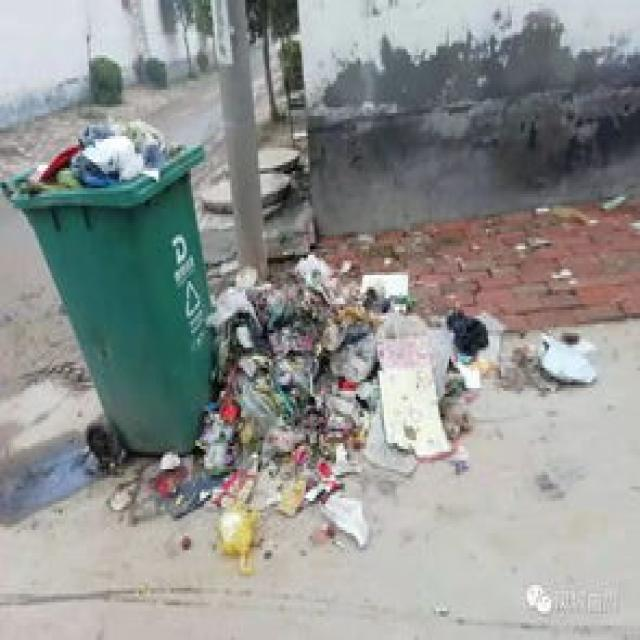garbage: (106, 249, 599, 571)
overflow: (0, 116, 215, 454)
